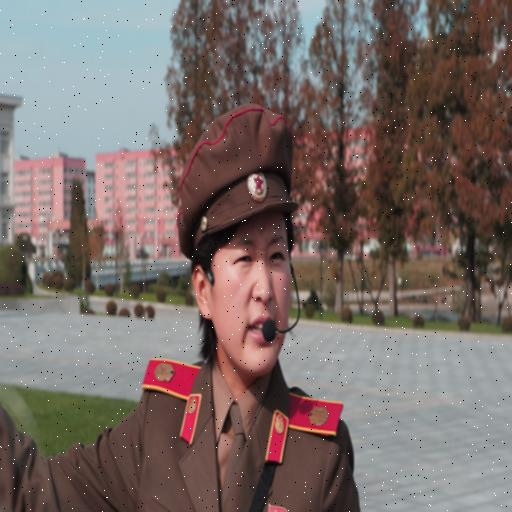north army: (35, 85, 390, 512)
